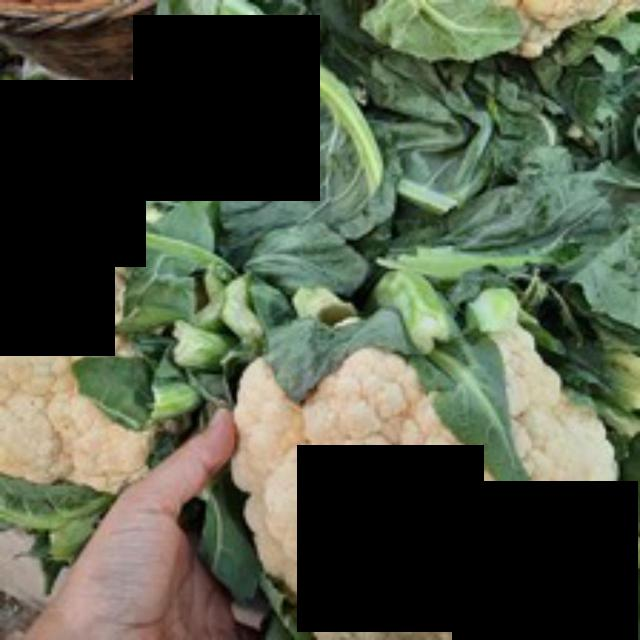cauliflower: (226, 286, 636, 636)
